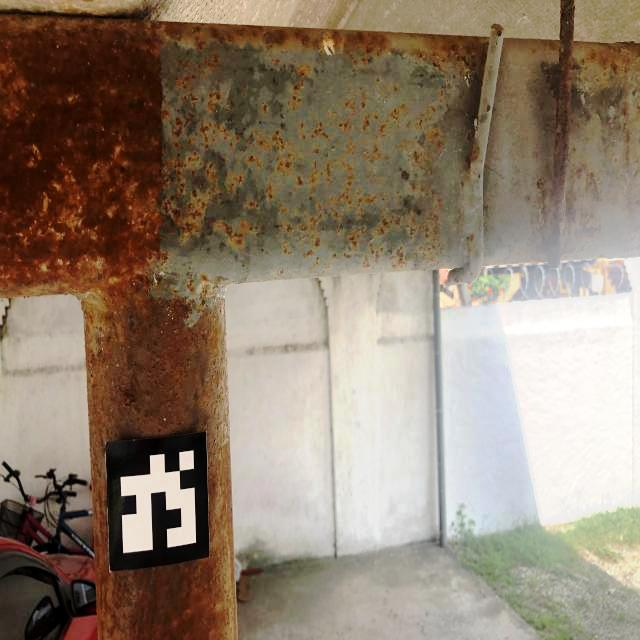Corrosion: (0, 13, 487, 640), (574, 41, 640, 177), (546, 0, 576, 268), (560, 165, 603, 256), (326, 141, 363, 236), (406, 196, 442, 266), (367, 103, 407, 163), (174, 51, 220, 91), (205, 217, 260, 249), (299, 203, 323, 258), (271, 129, 296, 175), (535, 176, 548, 255), (288, 64, 309, 112), (343, 226, 367, 261), (205, 161, 224, 205), (361, 89, 378, 131), (211, 123, 240, 147), (377, 213, 402, 237), (542, 66, 559, 101), (387, 245, 408, 271), (416, 104, 436, 130), (226, 172, 244, 196), (172, 117, 184, 152), (527, 39, 559, 52), (465, 139, 480, 164), (426, 126, 443, 148), (199, 120, 211, 151), (310, 123, 330, 141), (179, 92, 199, 108), (307, 160, 318, 189), (208, 90, 222, 112), (369, 242, 383, 264), (447, 268, 466, 283), (424, 154, 435, 176), (243, 200, 260, 213), (247, 154, 261, 168), (344, 99, 355, 116), (178, 57, 191, 71), (338, 120, 353, 132), (466, 234, 474, 256), (185, 111, 197, 125), (257, 139, 271, 151), (413, 149, 423, 165), (364, 194, 378, 205), (361, 254, 371, 269), (282, 241, 292, 256), (267, 183, 274, 199), (497, 26, 504, 38), (438, 90, 445, 101), (262, 100, 267, 115), (297, 175, 303, 187), (313, 256, 319, 268), (286, 224, 292, 235), (613, 154, 619, 164), (330, 252, 337, 260), (191, 169, 197, 178), (281, 207, 288, 214), (381, 193, 387, 201), (484, 204, 489, 213), (312, 148, 319, 154), (279, 267, 284, 275), (486, 105, 491, 113), (407, 120, 411, 128), (301, 123, 305, 130), (302, 135, 307, 140), (431, 190, 436, 195), (412, 182, 415, 190), (419, 187, 423, 193), (394, 87, 398, 92), (572, 147, 576, 152), (475, 249, 478, 255), (478, 174, 481, 179), (461, 182, 464, 186), (587, 137, 589, 140), (474, 244, 475, 248), (528, 197, 529, 200)
